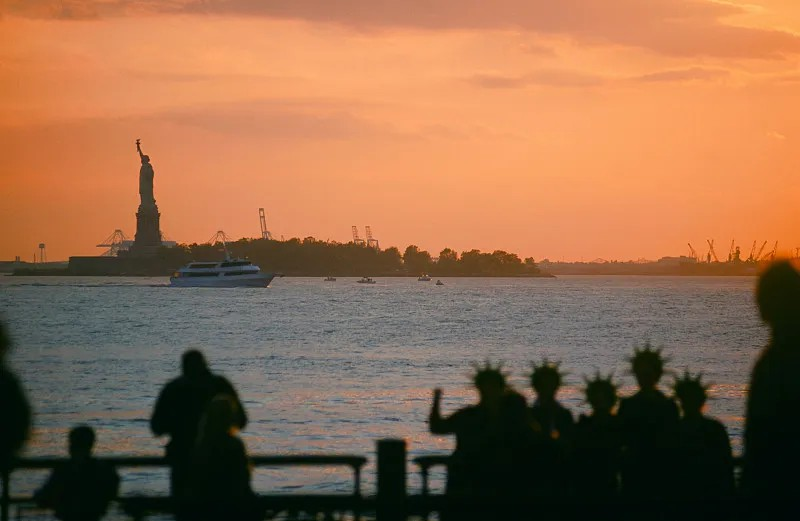SL: (133, 138, 162, 241)
